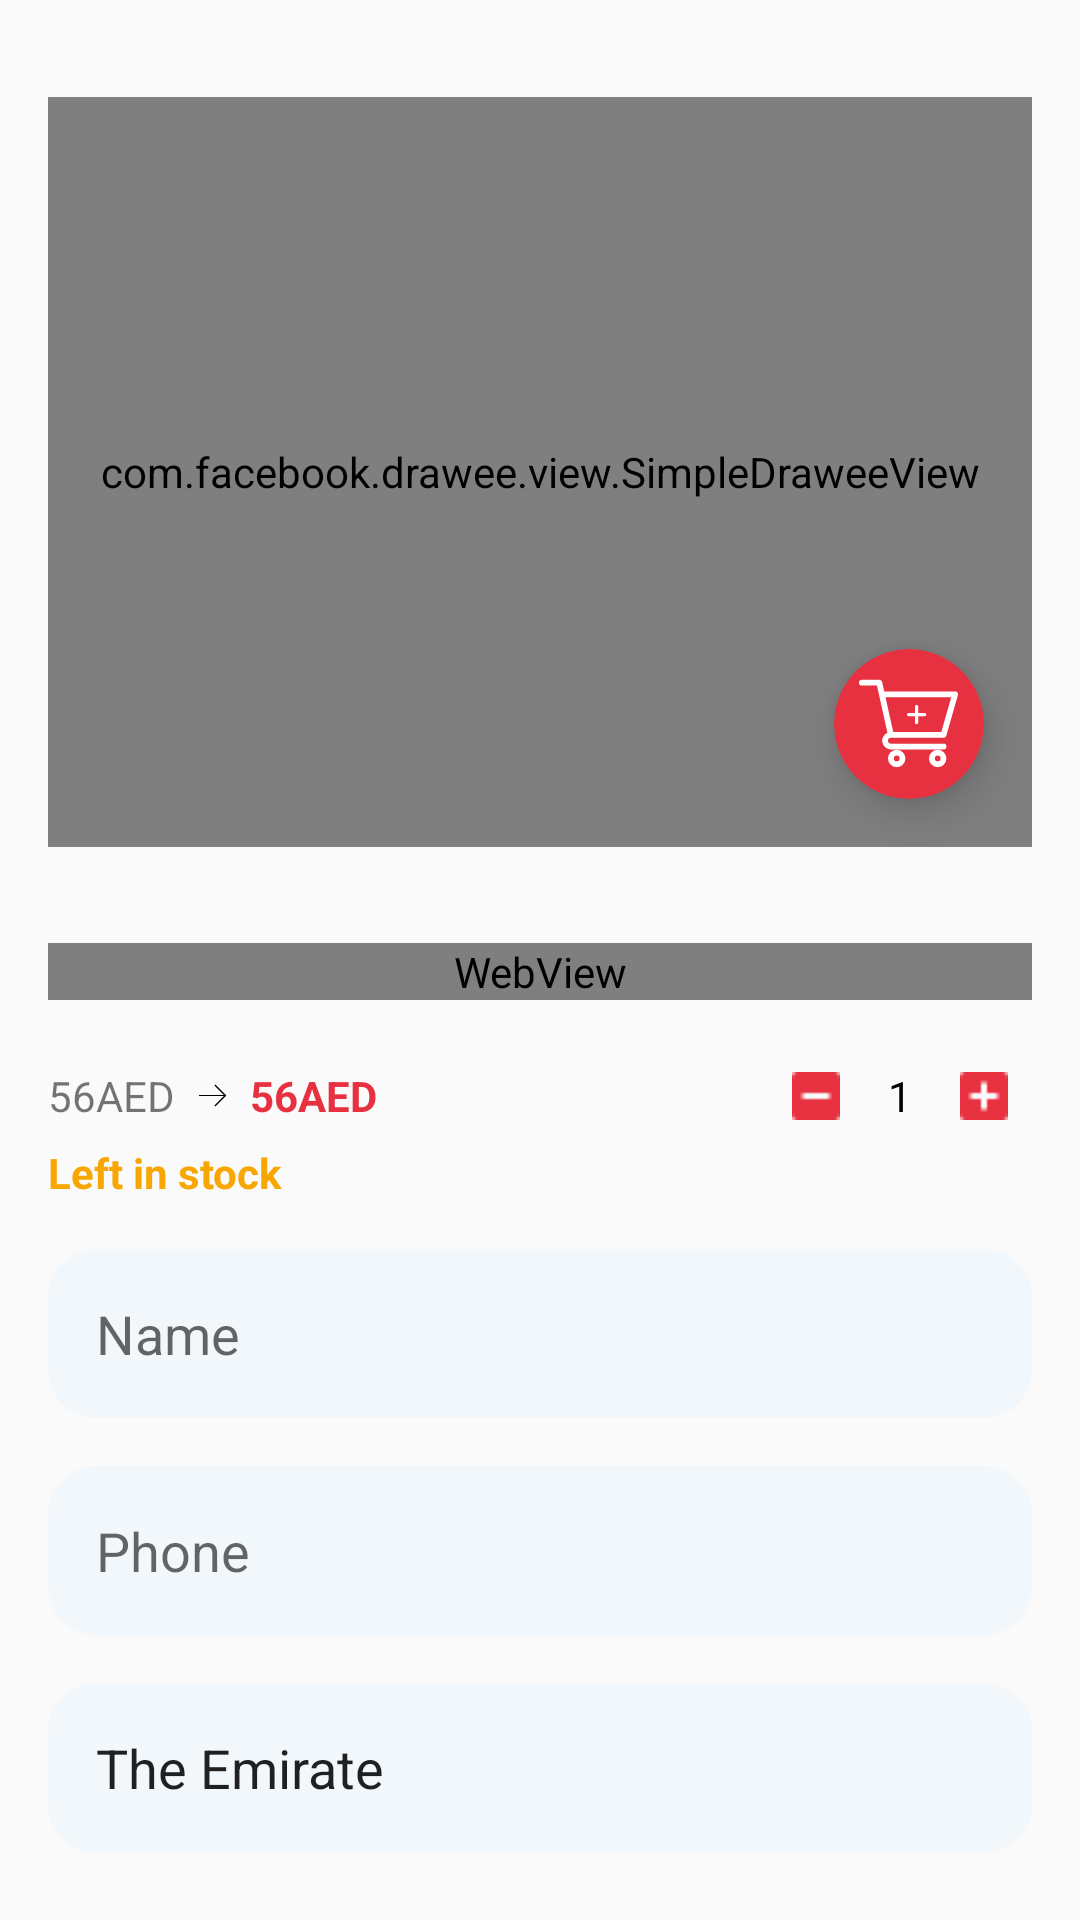

Named icons in this screenshot (1080w x 1920h) and their centers, [x,y]:
arrow price: [212,1095]
Cart: [908,723]
minus: [816,1096]
plus: [984,1096]
